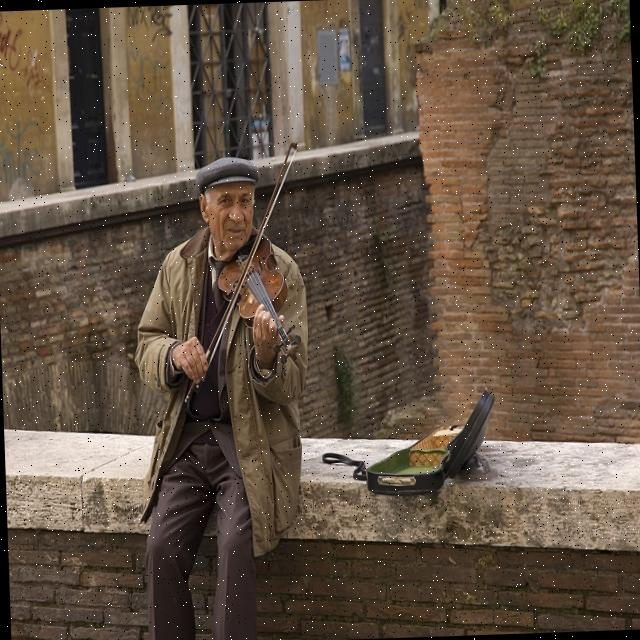violin: (214, 232, 301, 370)
